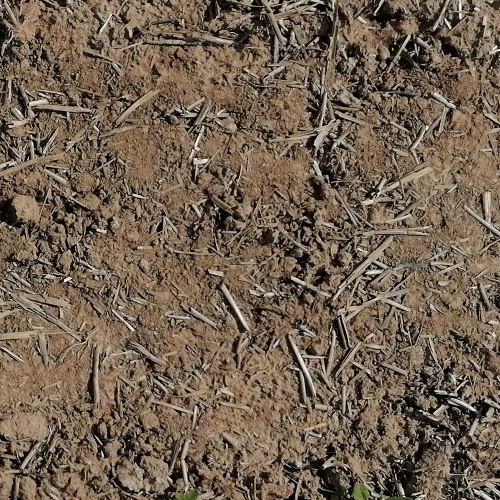beet: (354, 482, 405, 500), (167, 489, 200, 500)
